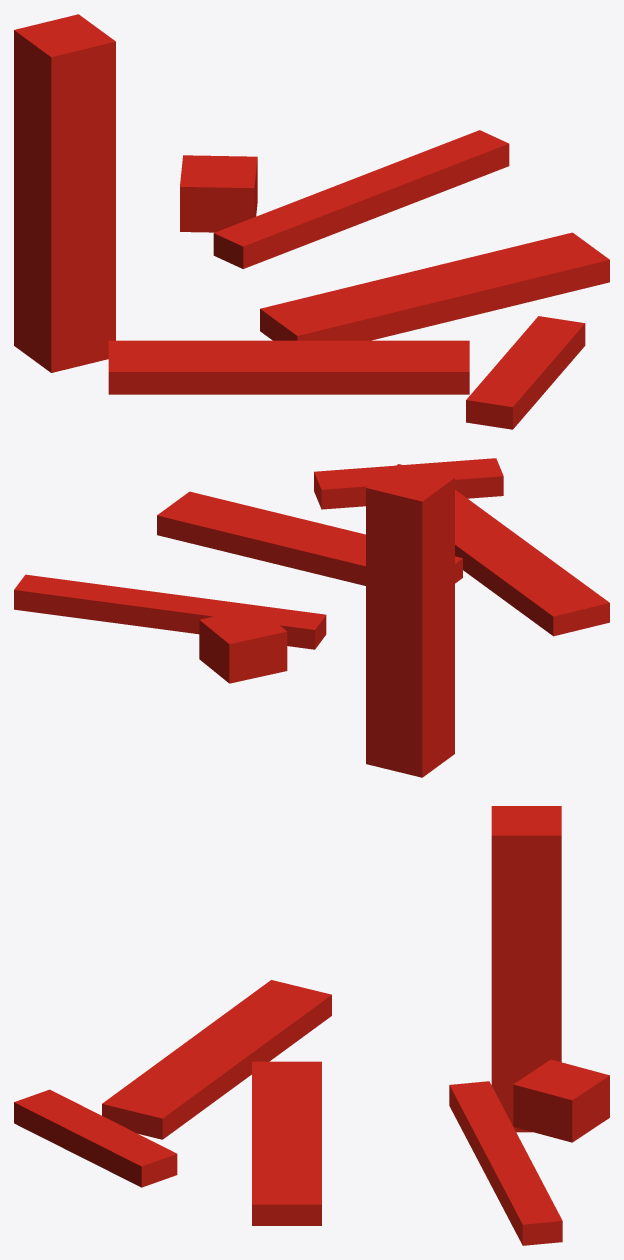
Rendered from bridge_none_2.obj.
3 renders of one model, top to bottom at view 1: azimuth 30°, elevation 25°; view 2: azimuth 150°, elevation 25°; view 3: azimuth 270°, elevation 25°, orthographic. The views are drawn at different scales.
Visible parts, largest first — view 1: cube; view 2: cube; view 3: cube.
Boxes of the visible parts, x1,y1,x2,y2 form: cube: (14, 14, 609, 429); cube: (14, 458, 609, 777); cube: (14, 806, 609, 1245).
Size of the model in its own units: 0.7749 by 0.4375 by 0.7971.
Materials: 1 (1 with a texture image).
